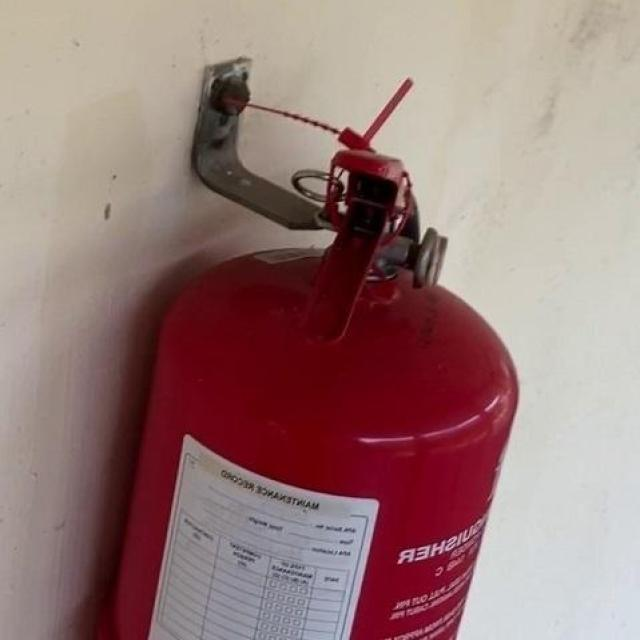fire_extinguisher: (81, 118, 526, 639)
